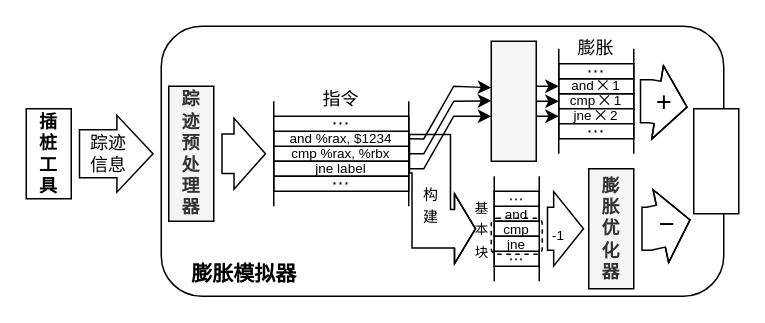
The diagram is 765 pixels wide and 323 high, and some of its shapes have lost their labels. Each missing label, with the box of its shape:
总 体 膨 胀: (692, 107, 739, 214)
膨 胀 计 算 器: (490, 40, 536, 161)
